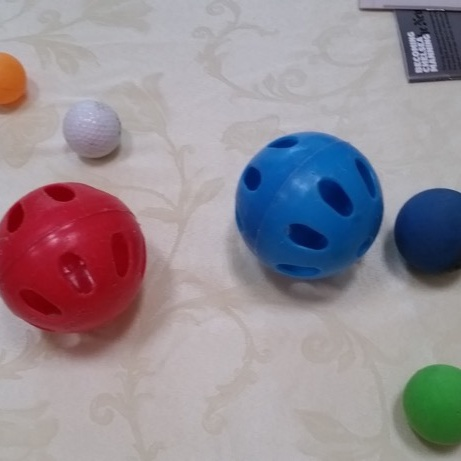blueball: (234, 128, 388, 288)
redball: (4, 180, 150, 336)
